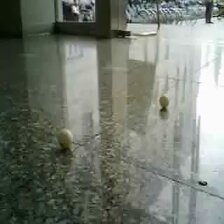w: (57, 129, 74, 147), (158, 95, 169, 107)
